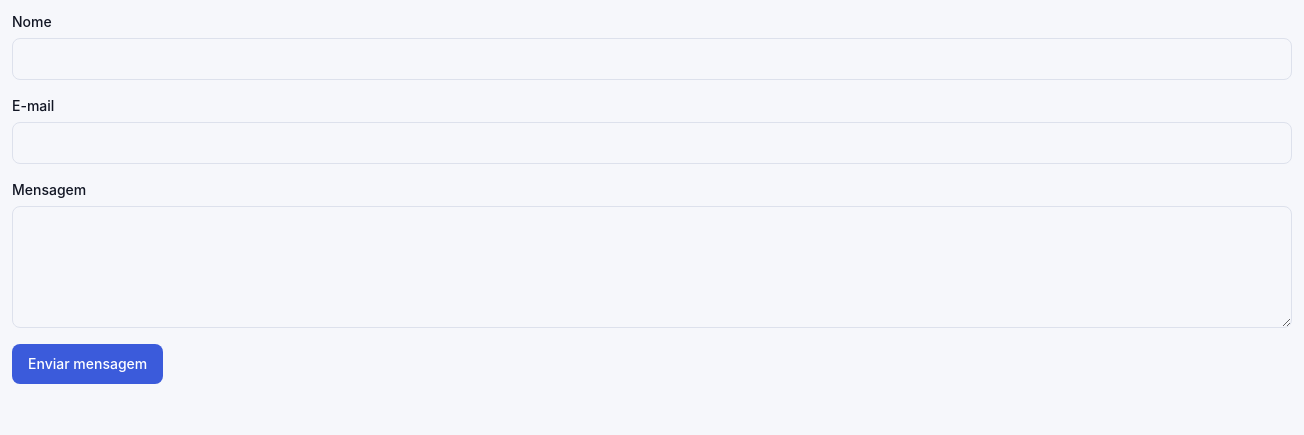
<ContactForm /> › bloqueia o botão durante o envio e evita mensagens duplicadas
This screenshot has width=1304, height=435.
Type "Maria Silva" into the field labelled "Nome" at coordinates (652, 59), box [12,38,1292,80]
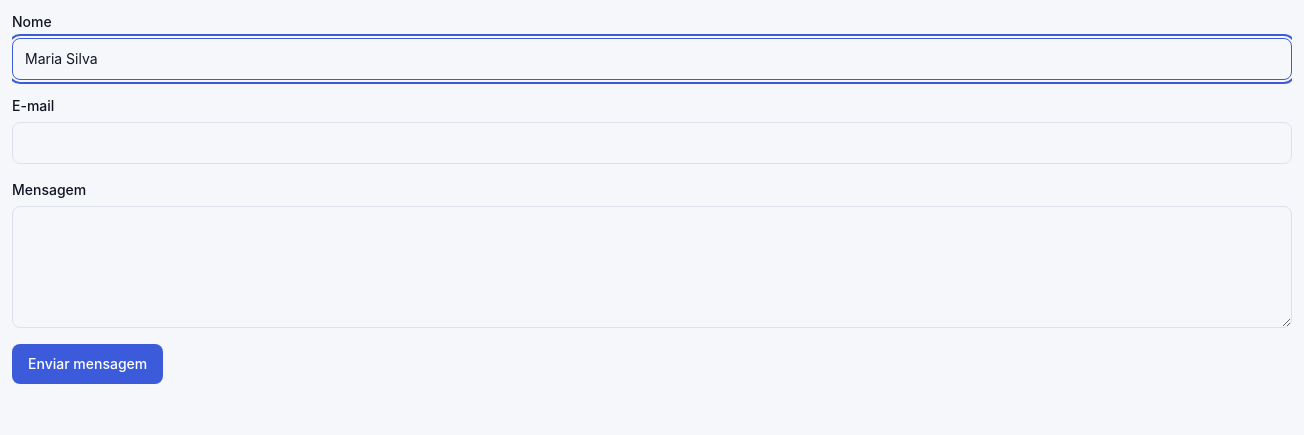
Type "maria@exemplo.com" into the field labelled "E-mail" at coordinates (652, 143), box [12,122,1292,164]
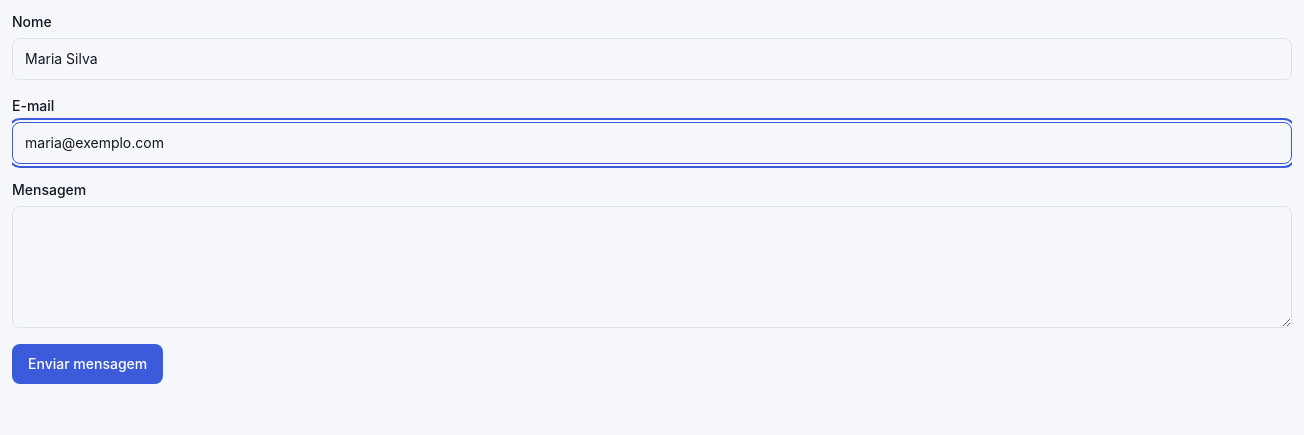
Type "Uma mensagem com mais de vinte caracteres." into the text box labelled "Mensagem" at coordinates (652, 267), box [12,206,1292,328]
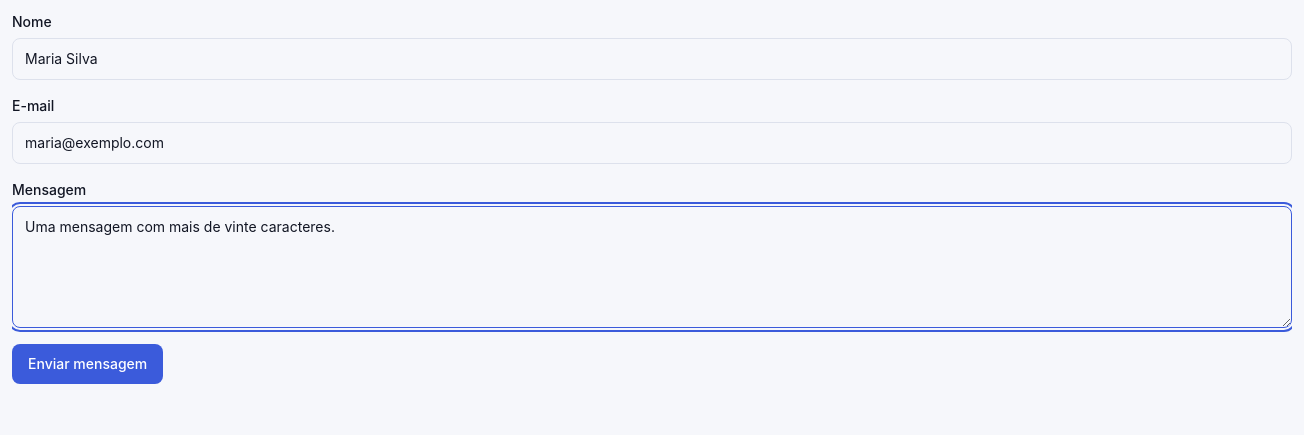
Click the button "Enviar mensagem" at coordinates (88, 364), box [12,344,163,384]
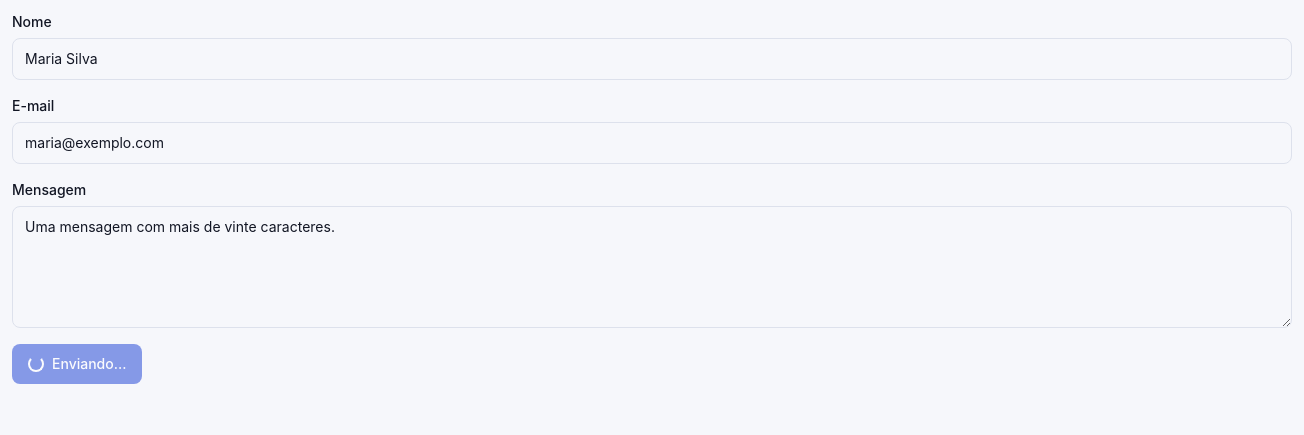
Expected: the button "Enviando…" is disabled
Click the button "Enviando…" at coordinates (77, 364), box [12,344,142,384]
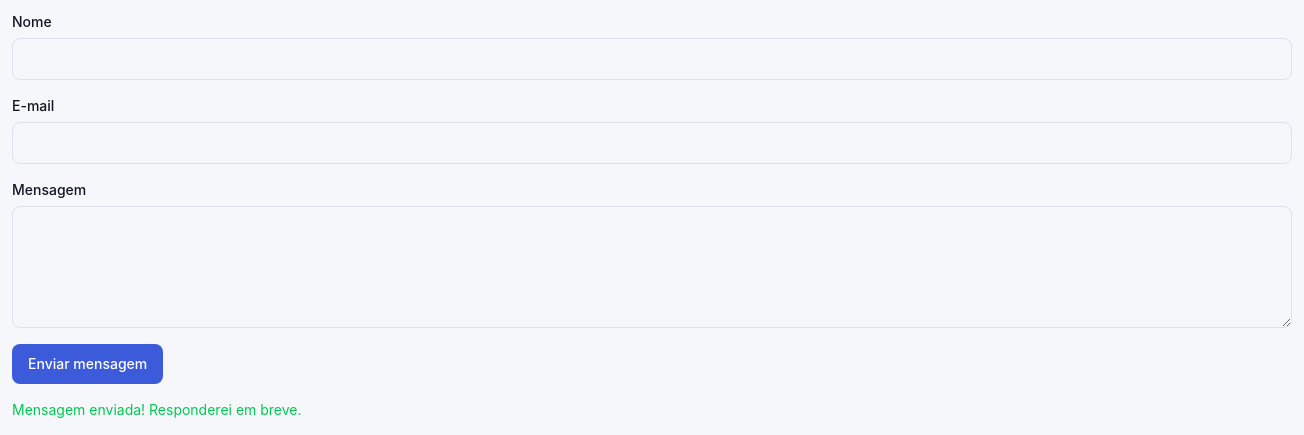
Expected: the text "Mensagem enviada! Responderei em breve." is shown, [12,401,302,418]
